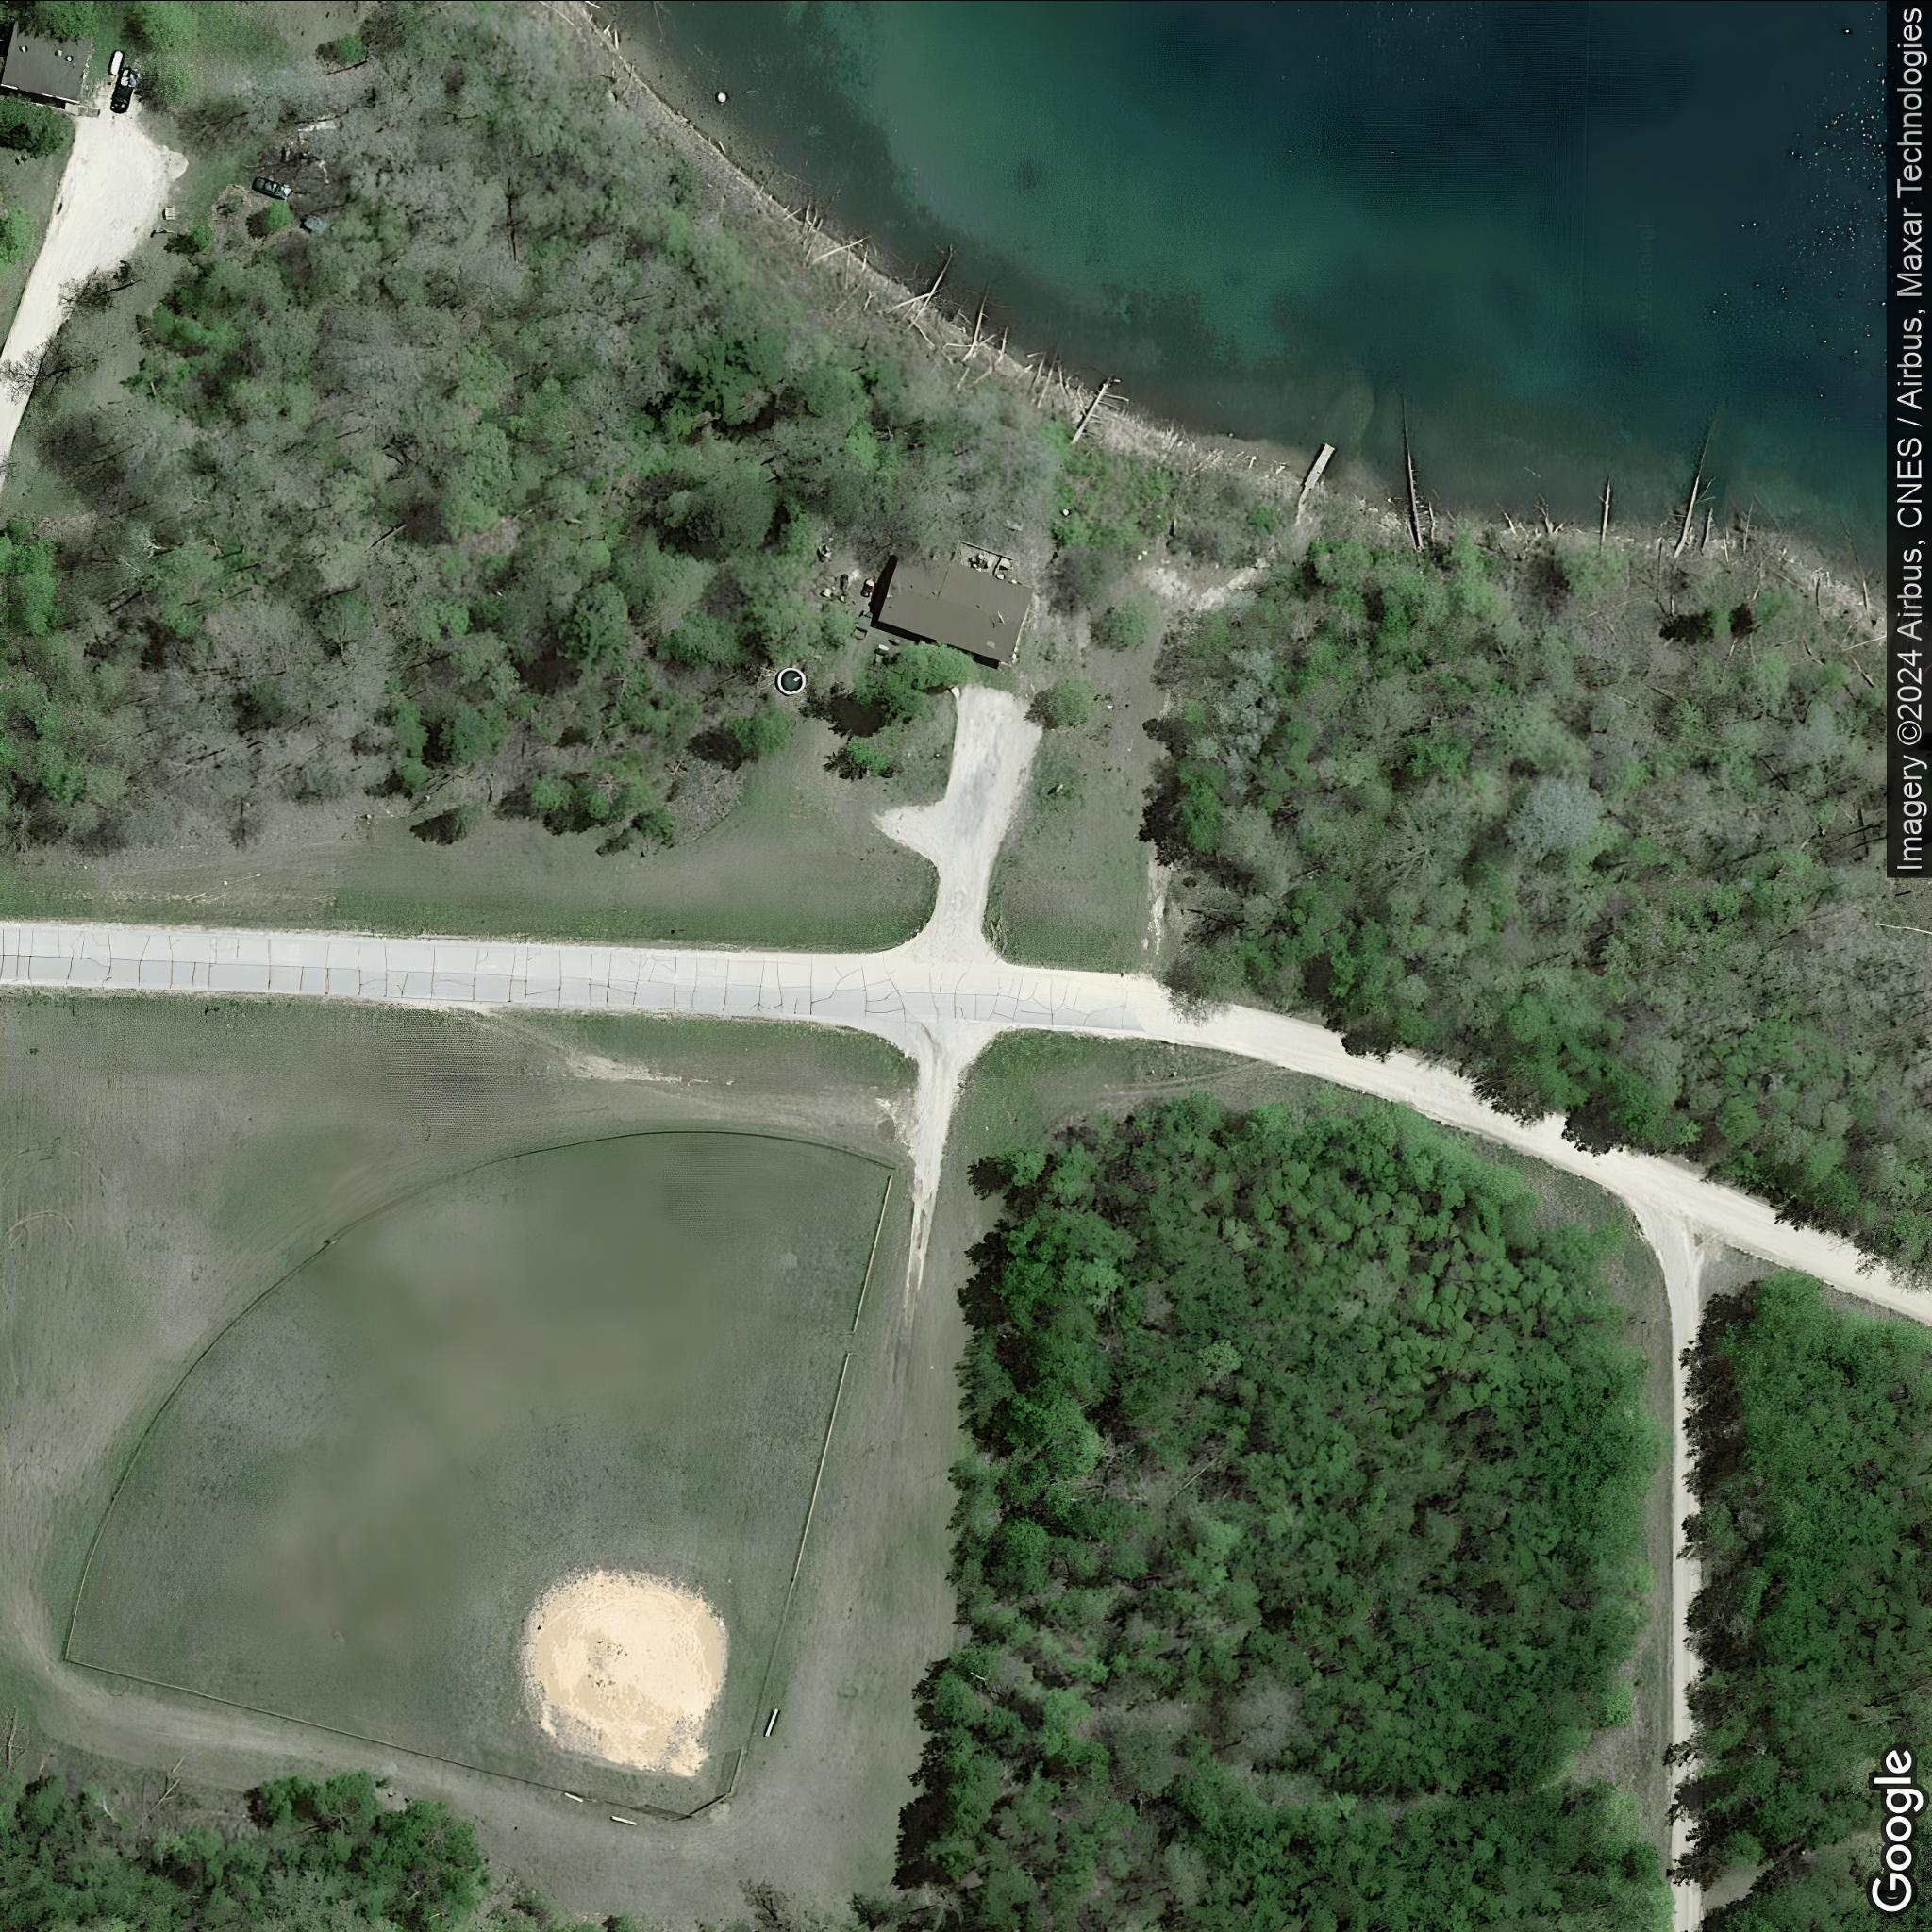House: (872, 541, 1042, 669), (0, 16, 97, 104)
Propane: (104, 46, 129, 78)
